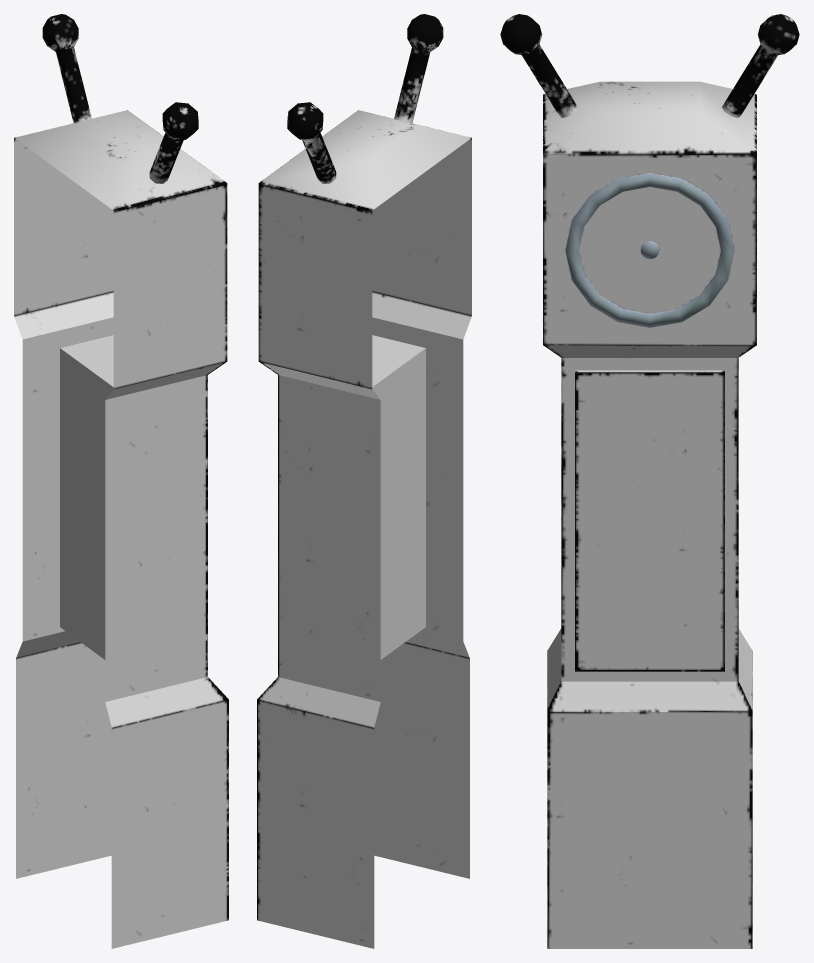
Rendered from Prop_Clock.fbx.
3 renders of one model, left to right at view 1: azimuth 30°, elevation 25°; view 2: azimuth 150°, elevation 25°; view 3: azimuth 270°, elevation 25°, orthographic. The views are drawn at different scales.
Visible parts, largest first — view 1: Cylinder; view 2: Cylinder; view 3: Cylinder, Cube.001.
Part boxes in pixels (left/top/right/bottom): Cylinder: left=14, top=14, right=228, bottom=948; Cylinder: left=257, top=14, right=471, bottom=948; Cylinder: left=500, top=14, right=799, bottom=948; Cube.001: left=575, top=370, right=724, bottom=671.
Size of the model in its own units: 29.11 by 200 by 60.02.
Materials: 1 (1 with a texture image).
